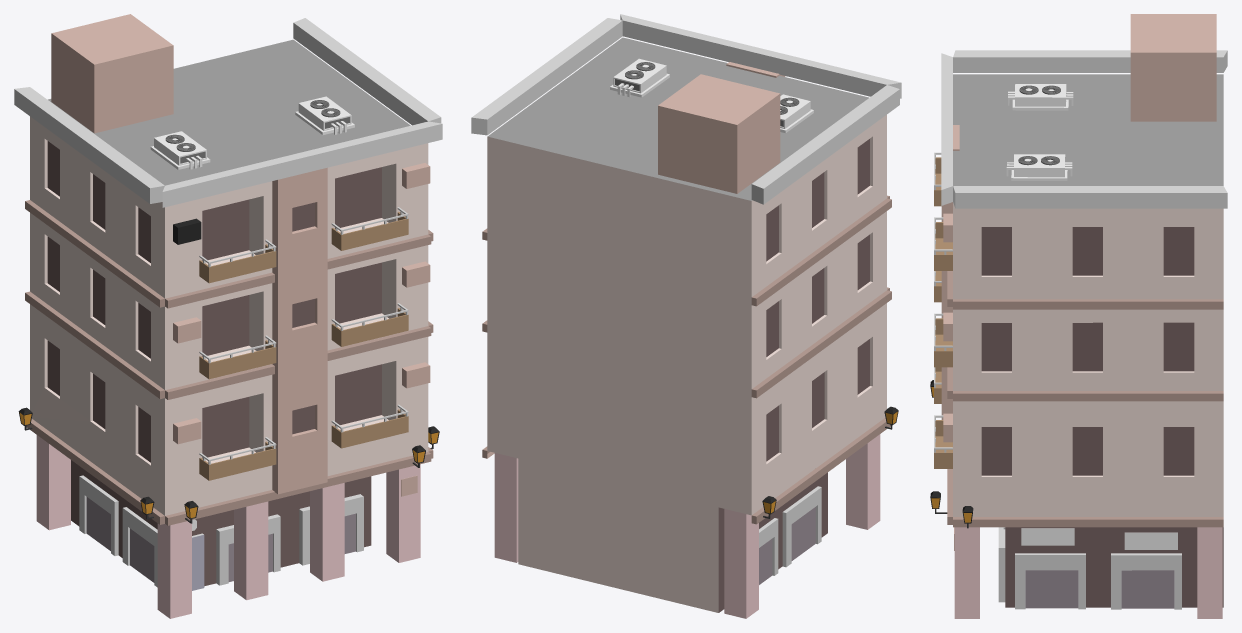
The model's file is Building1_4.glb.
3 views of the same model, side by side, from view 1: azimuth 30°, elevation 25°; view 2: azimuth 150°, elevation 25°; view 3: azimuth 270°, elevation 25° (orthographic).
Visible parts, largest first — view 1: Building1Root; view 2: Building1Root; view 3: Building1Root.
Boxes of the visible parts, x1,y1,x2,y2 form: Building1Root: [14, 14, 442, 618]; Building1Root: [471, 14, 901, 618]; Building1Root: [930, 14, 1227, 618].
Bounding box in the file's own units: 8.72 × 13.76 × 7.58.
